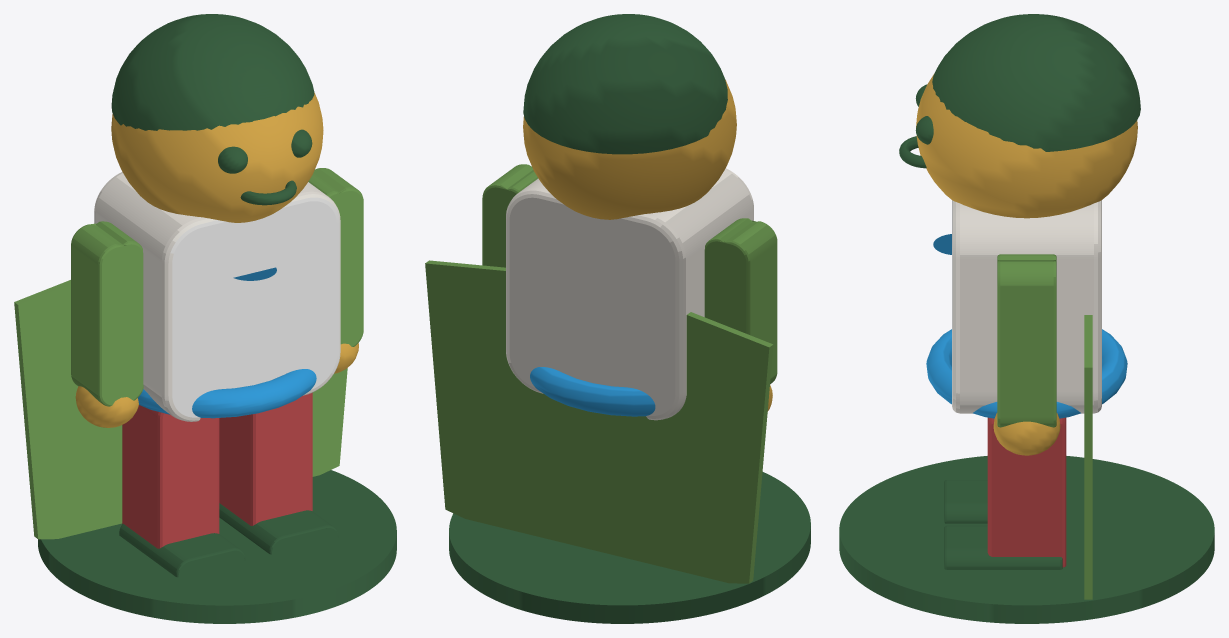
File: 1307_中国古代寓言_庄子.glb
3 views of the same model, side by side, from view 1: azimuth 30°, elevation 25°; view 2: azimuth 150°, elevation 25°; view 3: azimuth 270°, elevation 25° (orthographic).
Parts seen in each view (by area): view 1: card_1307; view 2: card_1307; view 3: card_1307.
Part boxes in pixels (bbox=[...]): card_1307: bbox=[14, 14, 396, 623]; card_1307: bbox=[425, 14, 810, 623]; card_1307: bbox=[839, 14, 1214, 623].
Bounding box in the file's own units: 0.6739 × 1 × 0.6351.
